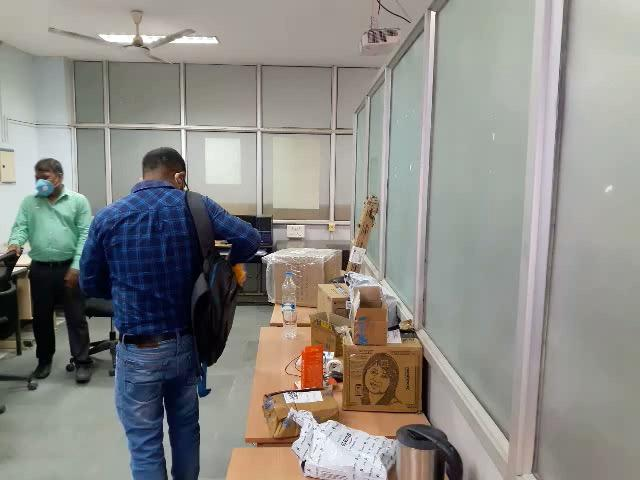shoplifting: (81, 191, 267, 450)
